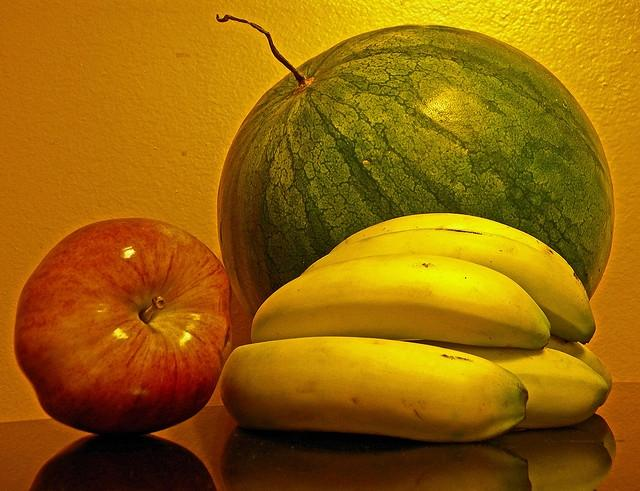apple: (14, 218, 234, 437)
banana: (220, 336, 529, 443), (251, 253, 551, 352), (328, 212, 589, 302), (402, 339, 610, 428), (545, 334, 613, 396)
watermelon: (215, 14, 616, 322)
